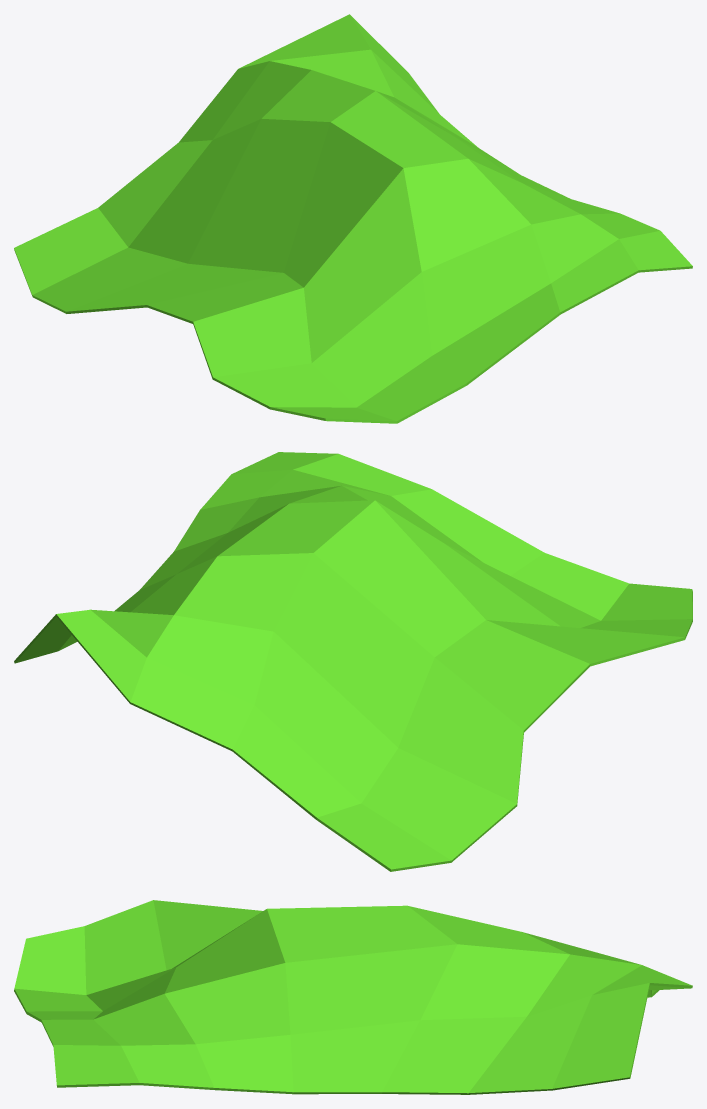
Rendered from plastic wrap 1.fbx.
3 views of the same model, one above another, from view 1: azimuth 30°, elevation 25°; view 2: azimuth 150°, elevation 25°; view 3: azimuth 270°, elevation 25° (orthographic). The views are drawn at different scales.
Visible parts, largest first — view 1: Plane; view 2: Plane; view 3: Plane.
Part boxes in pixels (bbox=[...]): Plane: bbox=[14, 14, 692, 423]; Plane: bbox=[14, 452, 692, 871]; Plane: bbox=[14, 900, 692, 1094].
Size of the model in its own units: 15.25 by 6.08 by 19.06.
